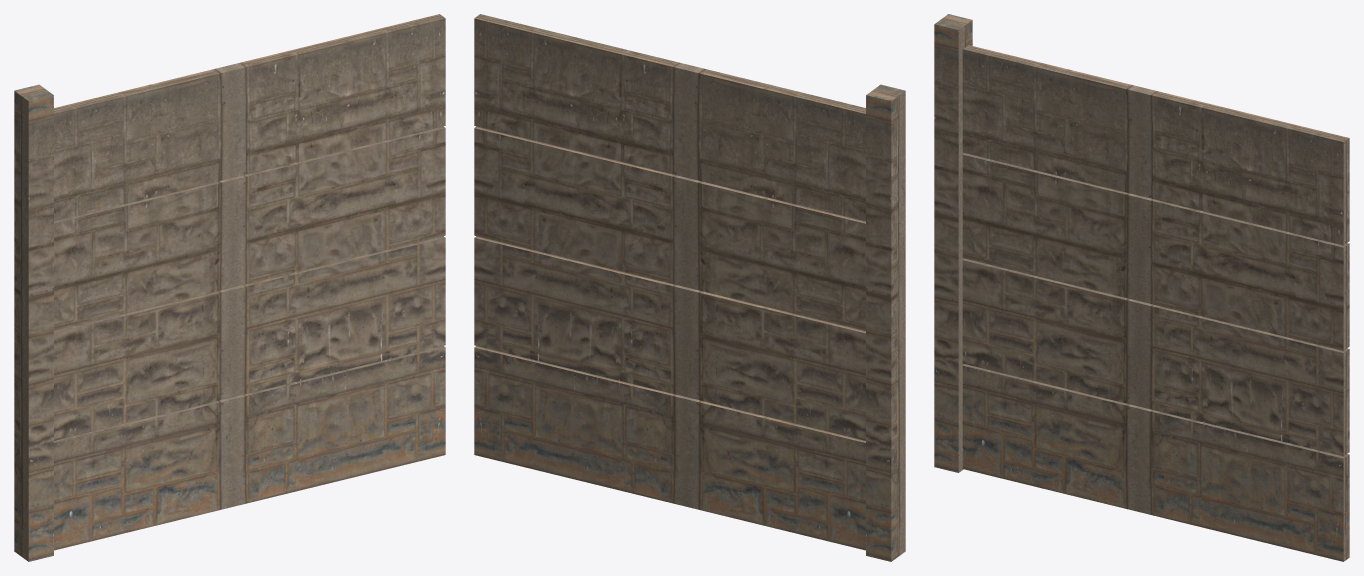
The model's file is durawall_panel.glb.
The picture shows the model from 3 angles, left to right: view 1: azimuth 30°, elevation 25°; view 2: azimuth 150°, elevation 25°; view 3: azimuth 330°, elevation 25°; orthographic projection. The views are drawn at different scales.
Visible parts, largest first — view 1: durawall_panel; view 2: durawall_panel; view 3: durawall_panel.
Part boxes in pixels (x1,y1,x2,y2): durawall_panel: (14, 14, 445, 561); durawall_panel: (474, 14, 905, 561); durawall_panel: (934, 14, 1349, 561).
Bounding box in the file's own units: 2.01 × 2.1 × 0.12.
Materials: 1 (1 with a texture image).
